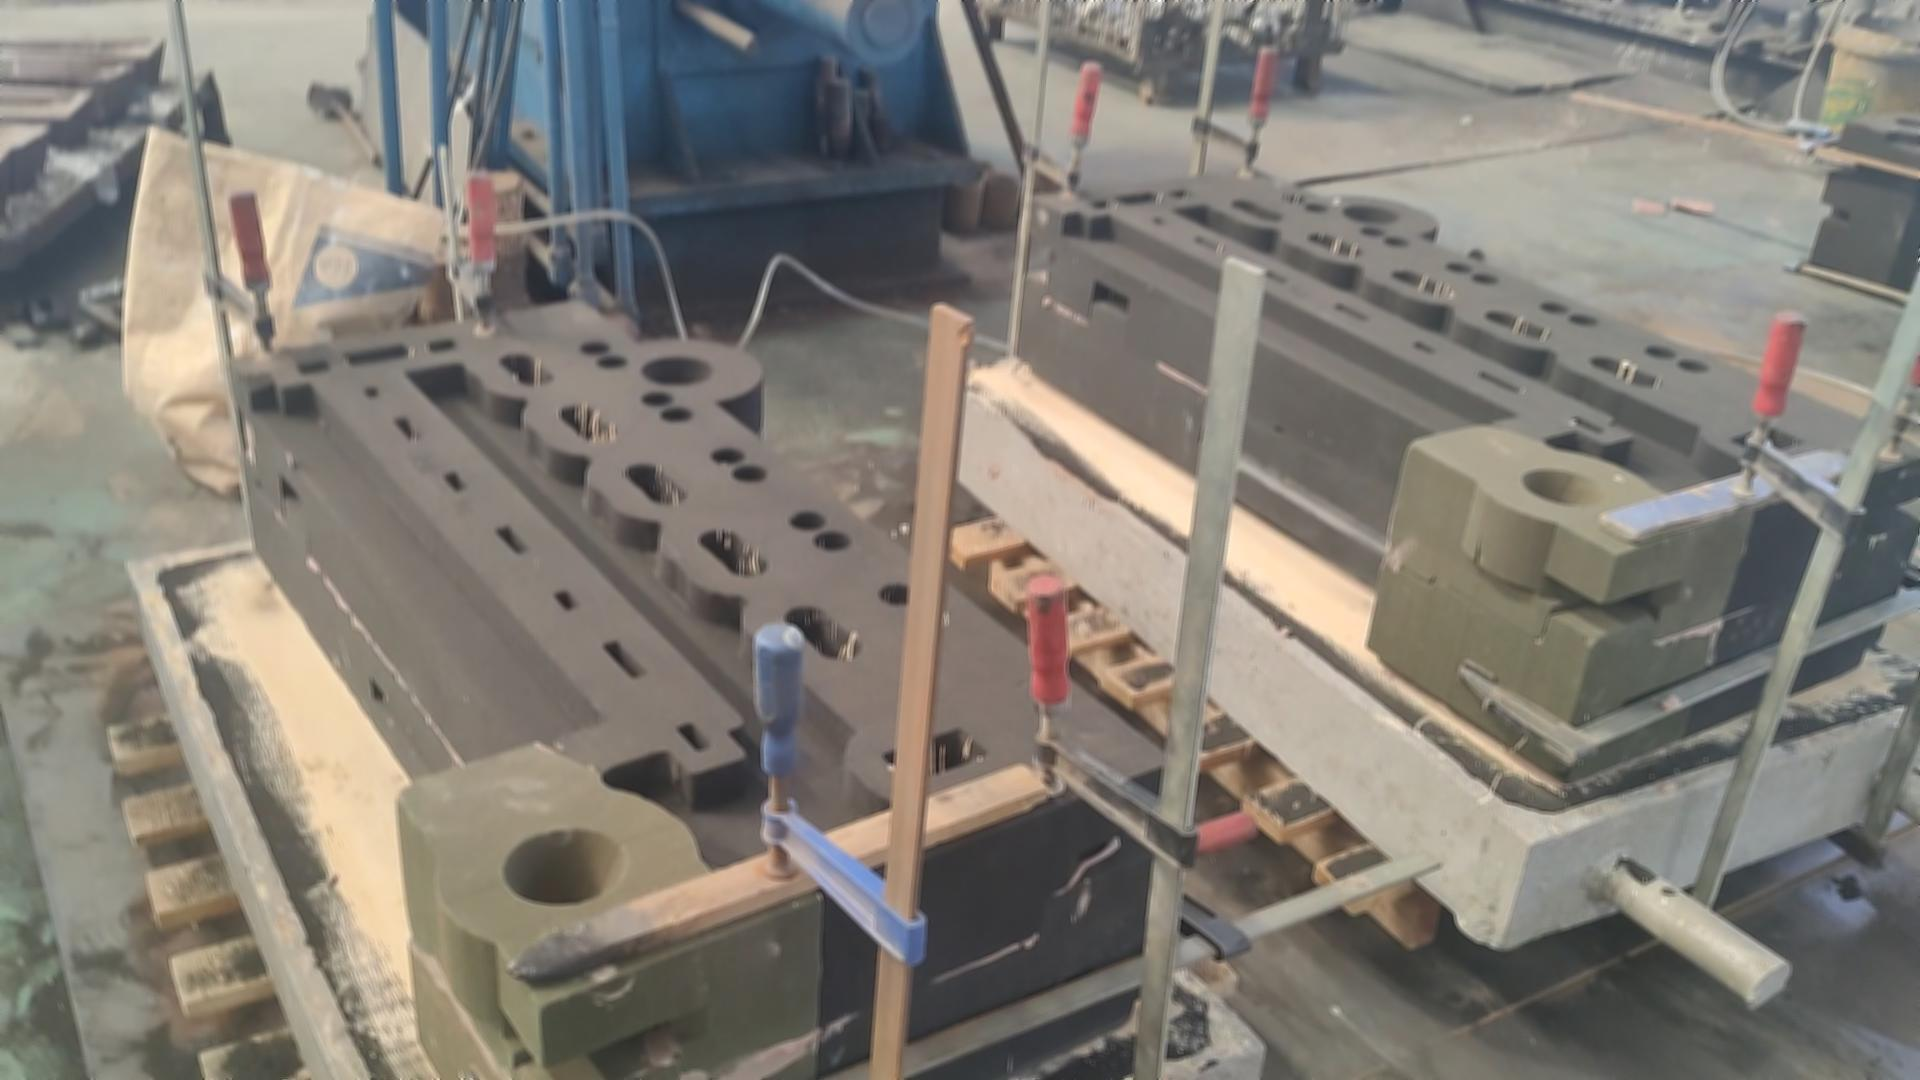pouring hole: (502, 829, 624, 906), (1524, 465, 1604, 506), (641, 355, 712, 385), (1345, 204, 1399, 224), (1031, 171, 1069, 185), (986, 175, 1021, 189), (949, 175, 981, 186), (1894, 113, 1920, 125), (967, 157, 993, 167)
